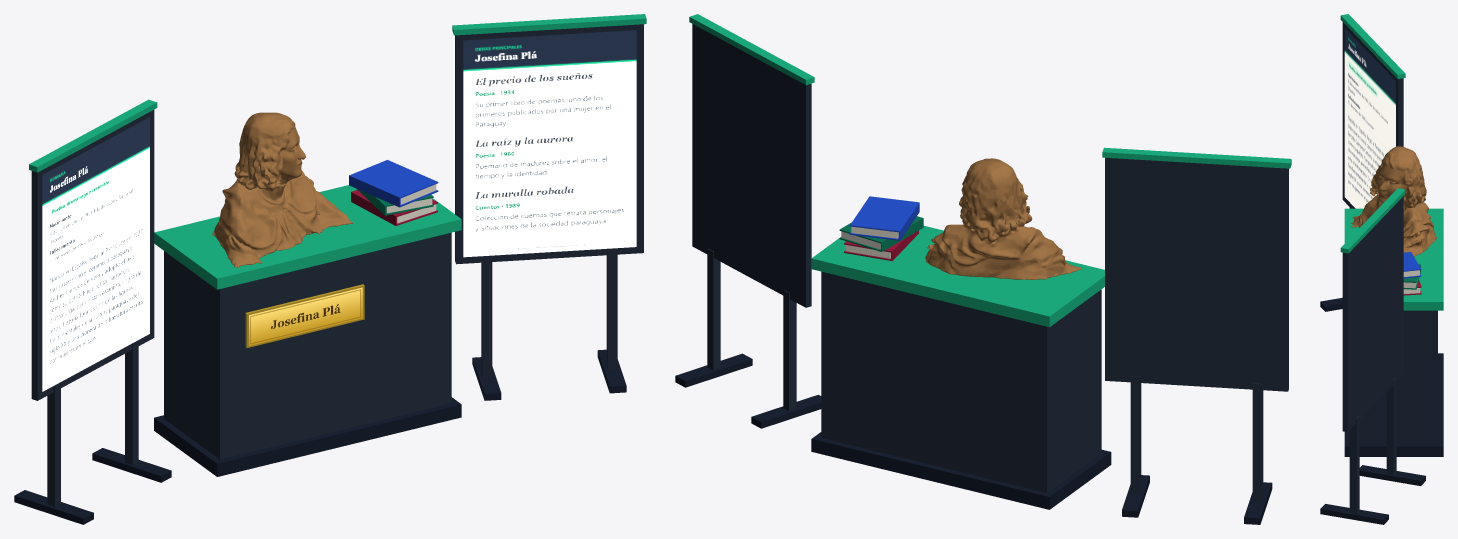
The model's file is josefina-pla.glb.
3 views of the same model, side by side, from view 1: azimuth 30°, elevation 25°; view 2: azimuth 150°, elevation 25°; view 3: azimuth 270°, elevation 25° (orthographic). The views are drawn at different scales.
Visible parts, largest first — view 1: pedestal (×7), obras, biografia, esmeralda (×3), busto, zocalo (×3), placa_nombre, tapa_azul, placa; view 2: pedestal (×7), esmeralda (×3), busto, zocalo (×3), tapa_azul; view 3: pedestal (×5), biografia, esmeralda (×3), busto, zocalo (×4), tapa_azul.
Boxes of the visible parts, x1,y1,x2,y2 form: pedestal (×7): (31,24,643,506); obras: (463,30,636,257); biografia: (42,117,149,391); esmeralda (×3): (29,14,646,289); busto: (212,112,353,267); zocalo (×3): (14,397,461,524); placa_nombre: (249,287,362,345); tapa_azul: (349,160,438,198); placa: (245,284,364,347); pedestal (×7): (692,24,1288,502); esmeralda (×3): (689,14,1291,327); busto: (925,158,1081,279); zocalo (×3): (675,353,1111,509); tapa_azul: (850,196,919,232); pedestal (×5): (1342,22,1437,513); biografia: (1344,28,1395,208); esmeralda (×3): (1340,14,1443,310); busto: (1351,146,1436,256); zocalo (×4): (1320,297,1443,524); tapa_azul: (1403,252,1421,271).
Bounding box in the file's own units: 2.93 × 1.62 × 0.6481.
Materials: 12 (3 with a texture image).
